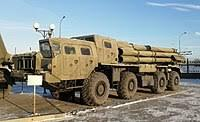MIL_SAM_TEL: (13, 32, 185, 104)
